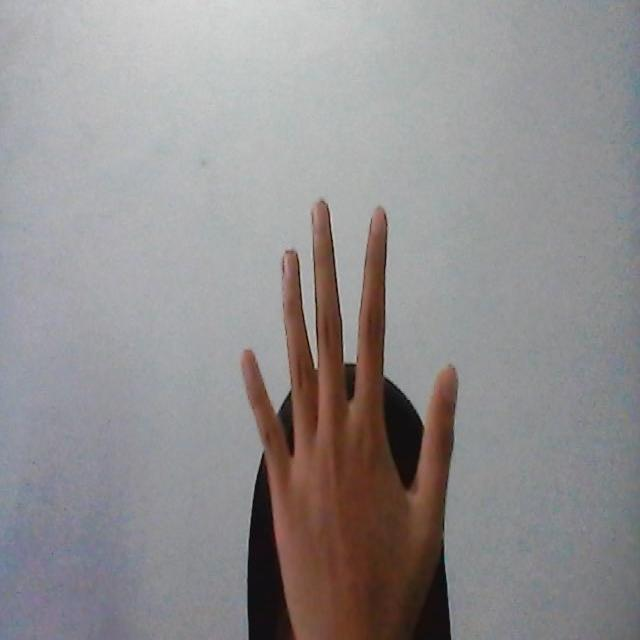hand: (236, 198, 464, 640)
